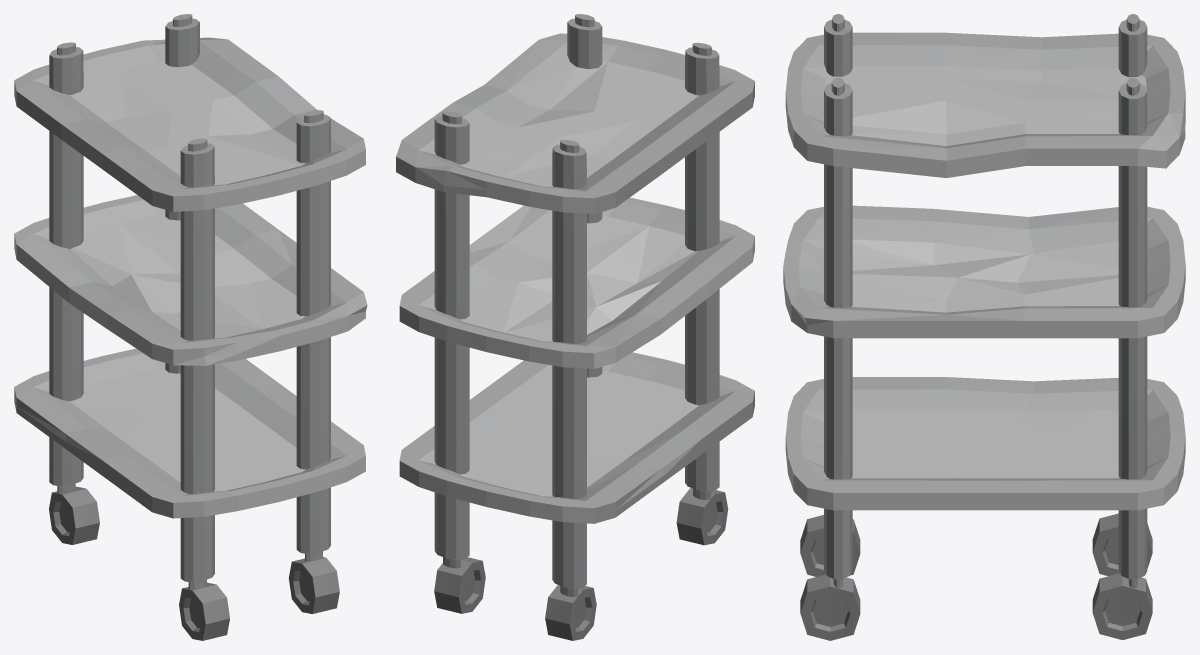
File: tray_1.obj
3 renders of one model, left to right at view 1: azimuth 30°, elevation 25°; view 2: azimuth 150°, elevation 25°; view 3: azimuth 270°, elevation 25°, orthographic. The views are drawn at different scales.
Visible parts, largest first — view 1: tray_1_Material; view 2: tray_1_Material; view 3: tray_1_Material.
Part boxes in pixels (<box>): tray_1_Material: <box>14,14,367,640</box>; tray_1_Material: <box>396,14,754,640</box>; tray_1_Material: <box>783,14,1185,640</box>.
Bounding box in the file's own units: 0.348 × 0.7606 × 0.501.
